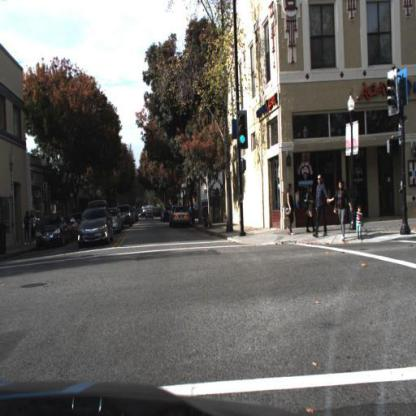car: (74, 207, 113, 254), (33, 216, 68, 253), (108, 207, 122, 243), (171, 204, 191, 229), (112, 207, 125, 235), (122, 203, 135, 230)
pedestrian: (328, 177, 352, 243), (332, 171, 353, 239), (314, 173, 331, 241), (285, 182, 299, 238), (283, 183, 297, 237), (306, 186, 319, 233), (352, 203, 366, 239), (29, 210, 41, 250), (23, 205, 33, 247), (31, 209, 38, 251), (24, 212, 32, 248)
trafficLight: (238, 113, 250, 154)
